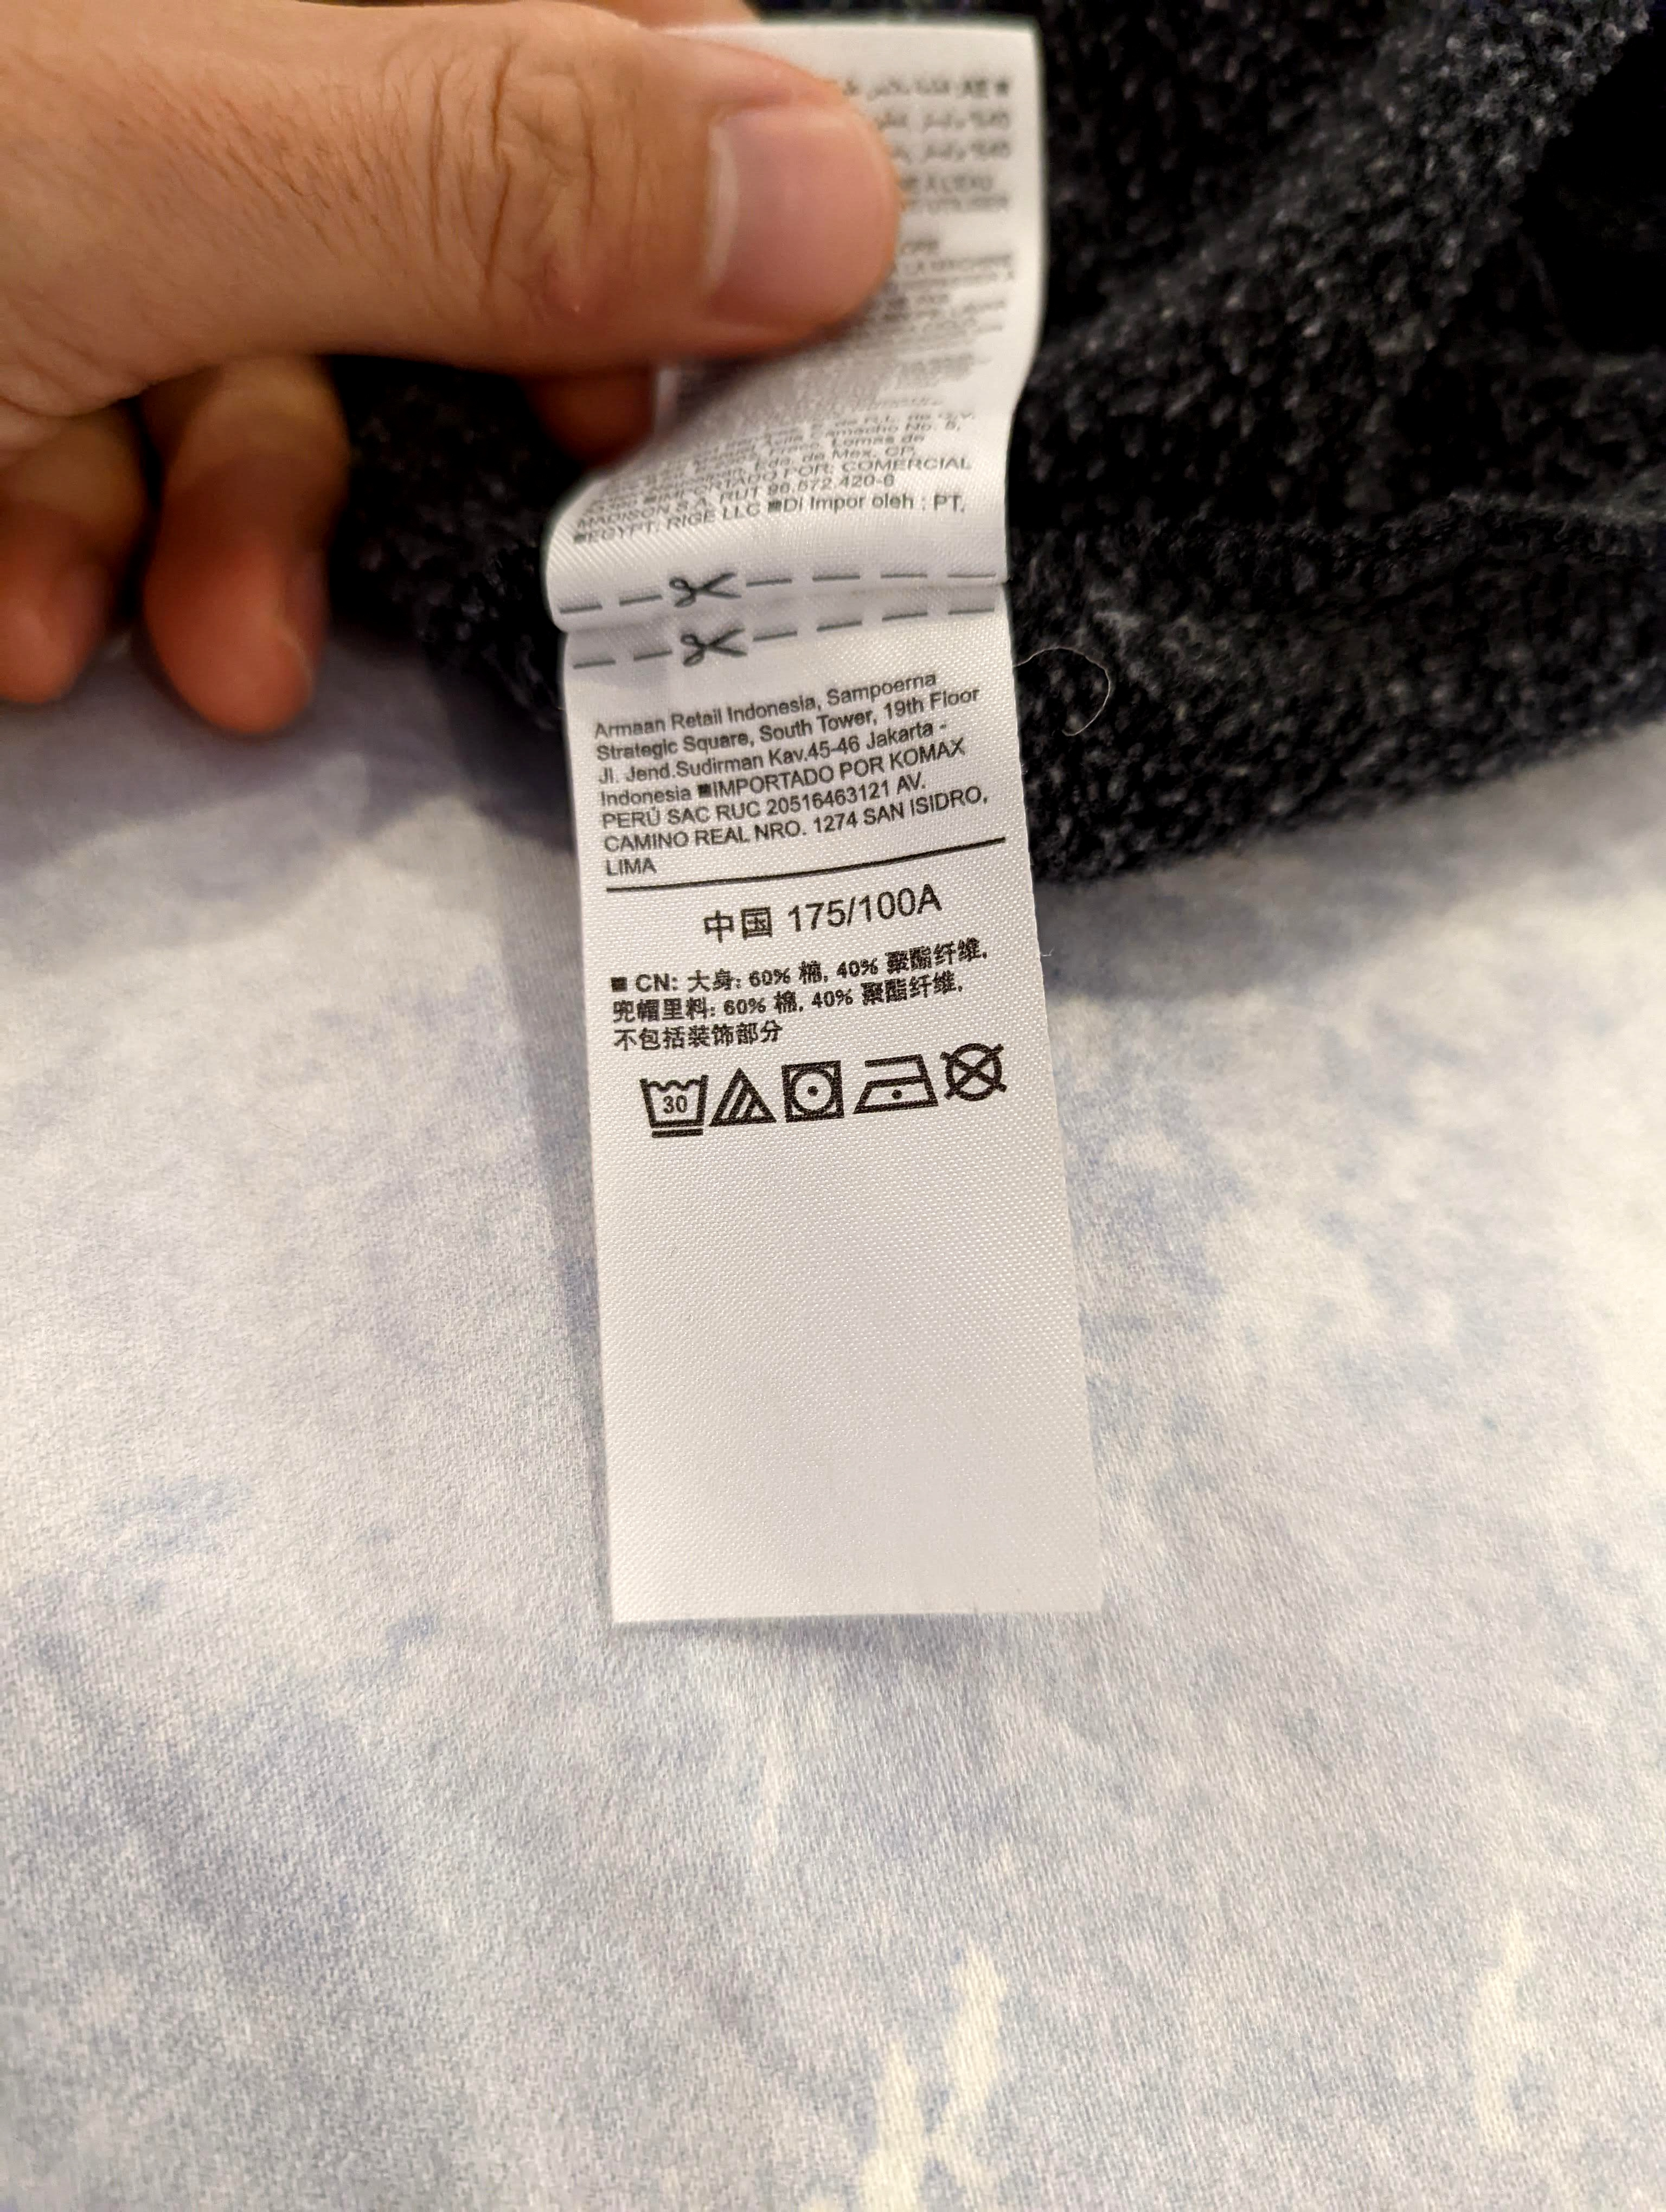30C: (644, 1063, 712, 1144)
DN_bleach: (709, 1068, 779, 1130)
DN_dry_clean: (941, 1040, 1008, 1107)
iron_low: (852, 1051, 940, 1123)
tumble_dry_low: (779, 1056, 849, 1126)
